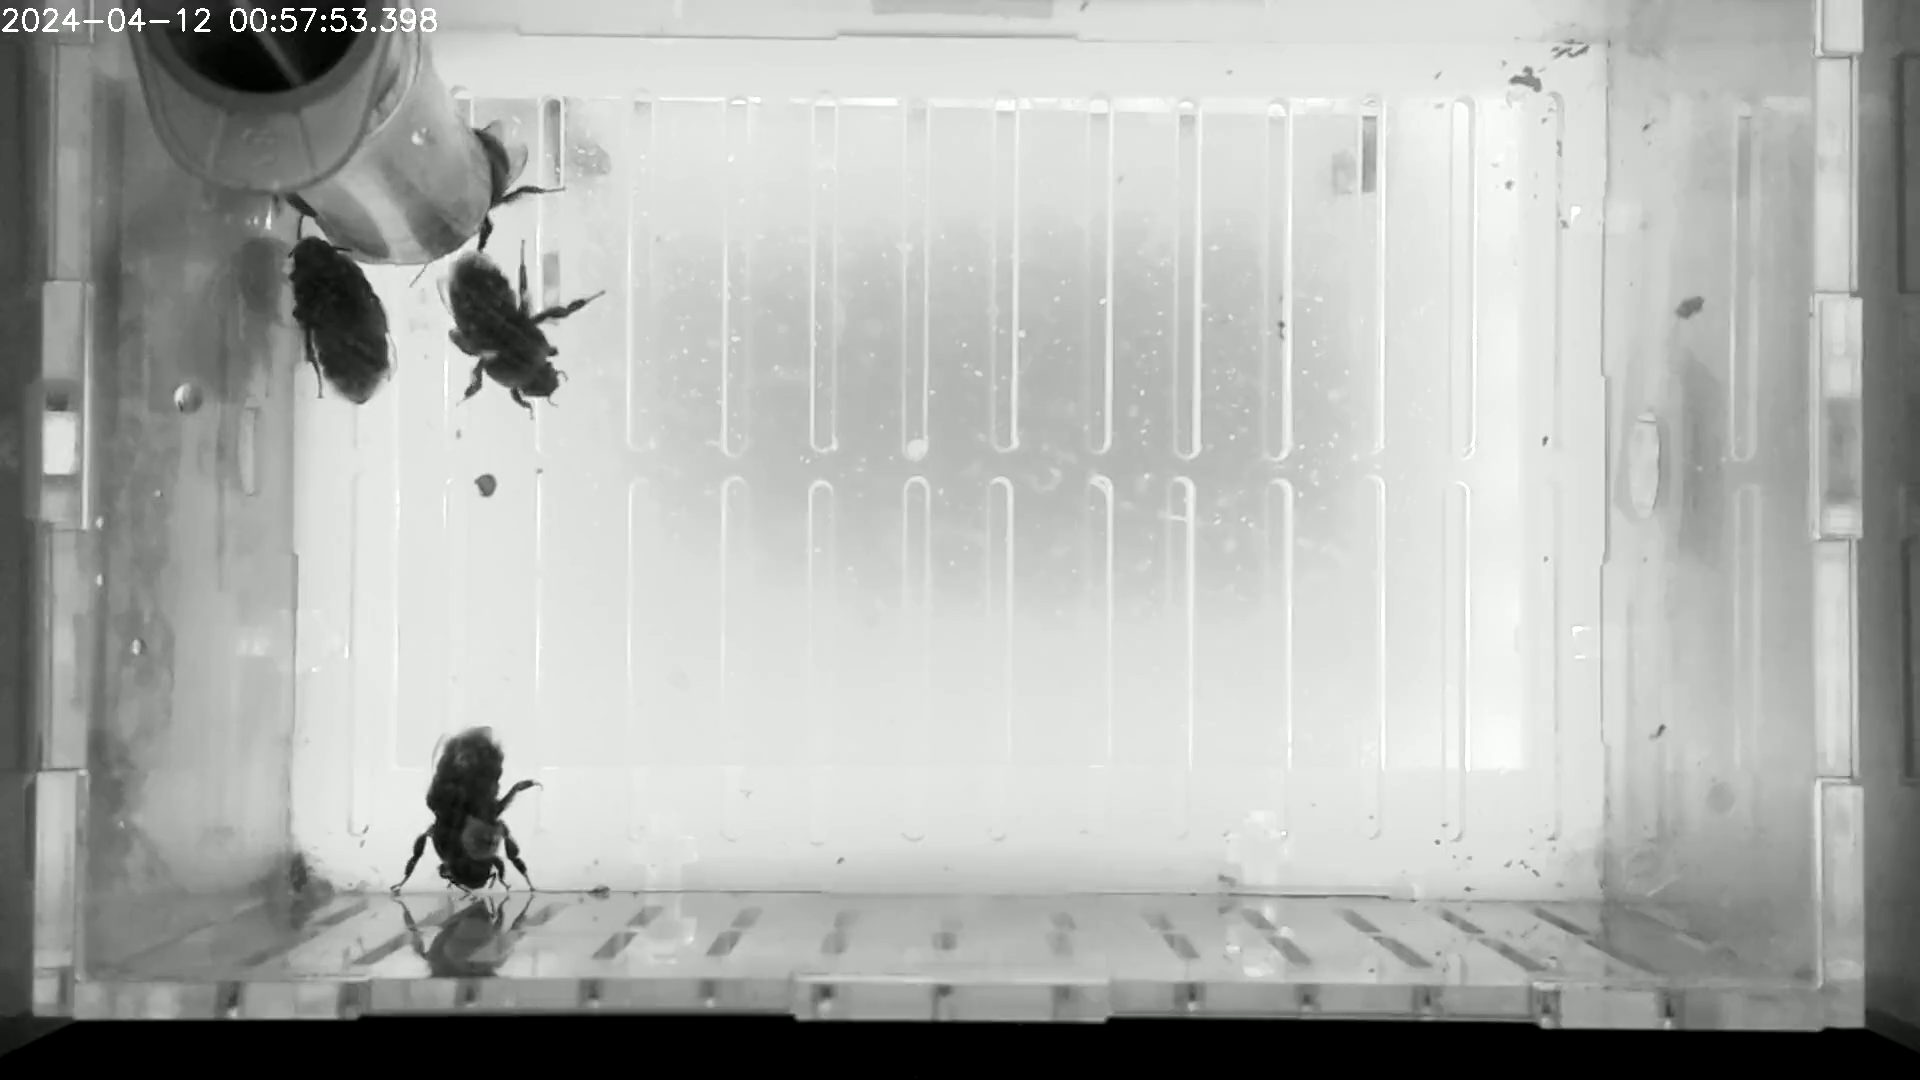bee: (385, 716, 554, 899), (438, 233, 607, 417), (287, 219, 393, 405), (450, 116, 571, 252)
feeder: (284, 29, 495, 264)
